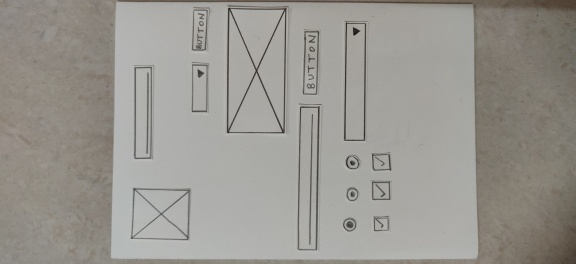button: (299, 26, 324, 98), (188, 4, 211, 55)
checkbox: (369, 179, 393, 203), (369, 151, 393, 174), (370, 213, 394, 235)
dropdown: (340, 20, 371, 144), (187, 60, 211, 115)
img: (222, 4, 289, 137), (126, 184, 194, 246)
radio: (339, 215, 360, 235), (343, 153, 362, 172), (343, 185, 361, 203)
text: (293, 101, 326, 254), (129, 63, 159, 163)
